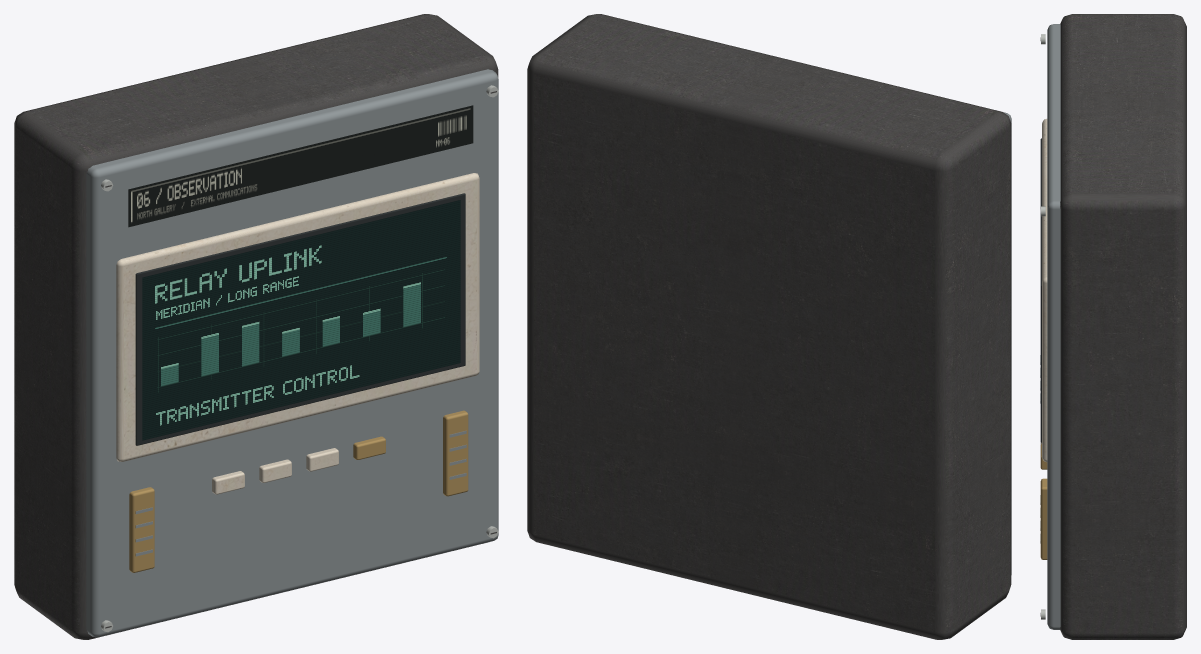
Rendered from uplink-console.glb.
The picture shows the model from 3 angles, left to right: view 1: azimuth 30°, elevation 25°; view 2: azimuth 150°, elevation 25°; view 3: azimuth 270°, elevation 25°; orthographic projection. The views are drawn at different scales.
Parts seen in each view (by area): view 1: wall-housing; view 2: wall-housing; view 3: wall-housing.
Boxes of the visible parts, x1,y1,x2,y2 form: wall-housing: (14,14,498,639); wall-housing: (527,14,1011,639); wall-housing: (1040,14,1186,639).
Bounding box in the file's own units: 0.95 × 1.04 × 0.31.
Materials: 8 (4 with a texture image).
